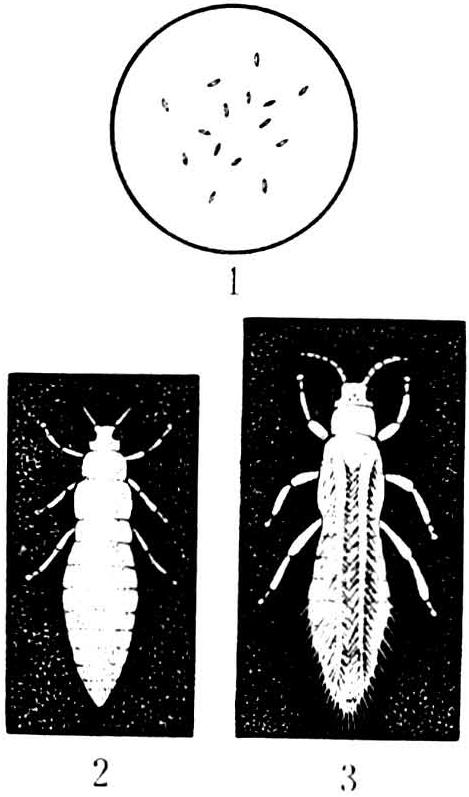Thripidae: (253, 349, 443, 725)
